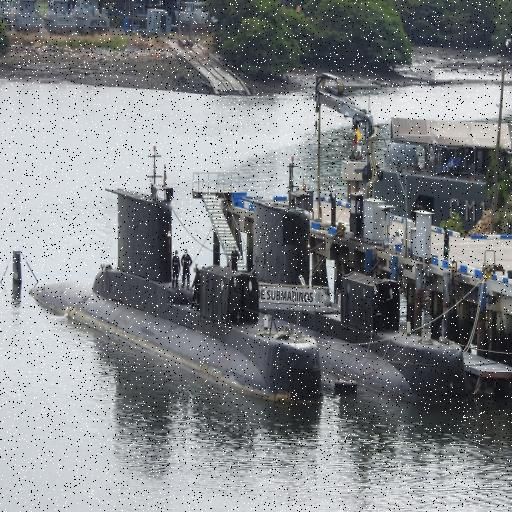submarine: (19, 182, 321, 406), (195, 198, 470, 399)
